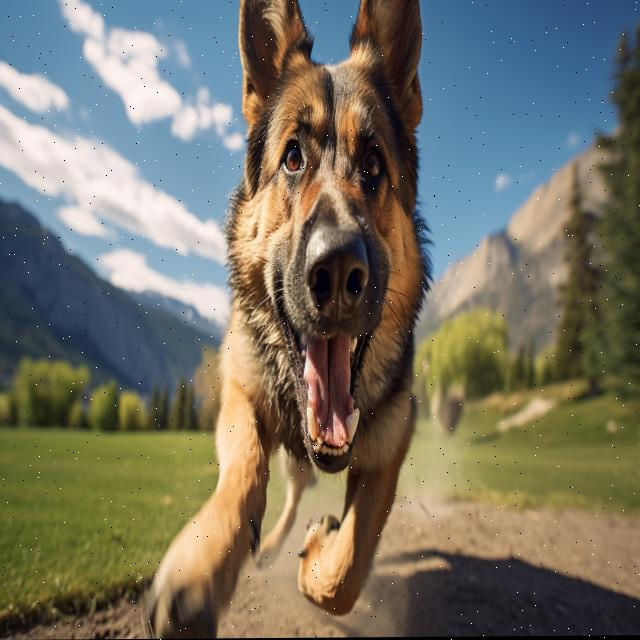GERMAN_SHEPHERD: (146, 0, 458, 639)
